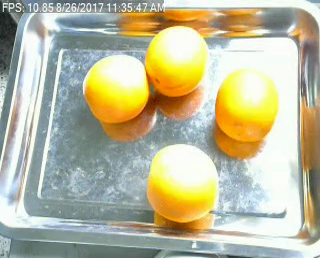Orange: (146, 142, 218, 222), (215, 67, 277, 142), (144, 25, 208, 97), (82, 53, 149, 121)
